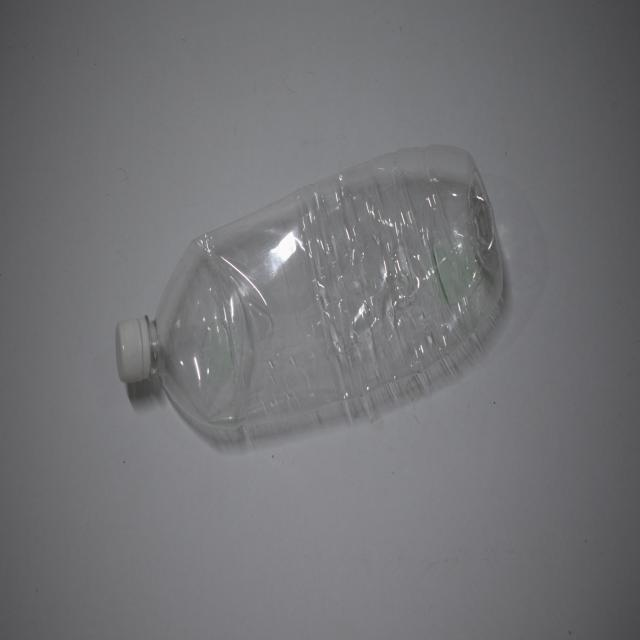empty: (116, 145, 503, 438)
